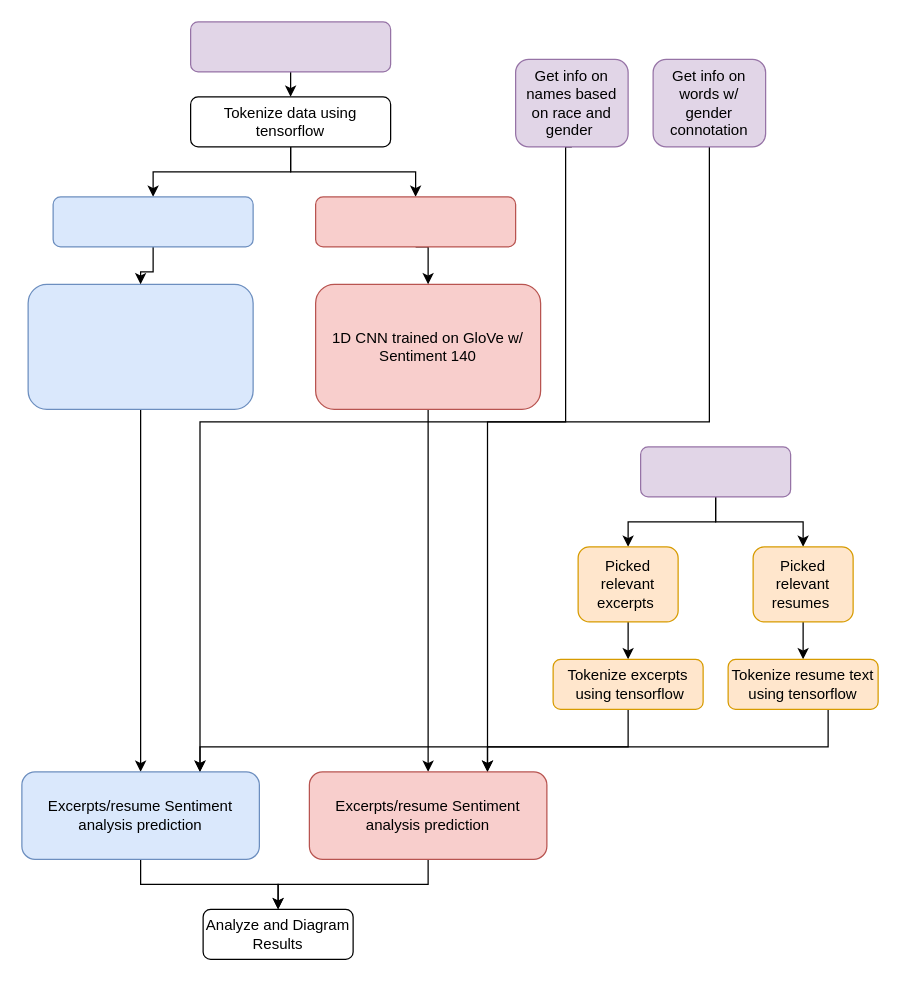
This 900x981 diagram has some shape labels left out. The shapes that lost their labels are listed below. From the top down, each one's box as (x1, y1, x2, y2) in pixels, then its label:
(189, 21, 391, 72): Sentiment 140: tweets sentiment analysis dataset
(52, 196, 253, 247): Get ConceptNet Embeddings Matrix from Data
(314, 196, 516, 247): Get GloVe Embeddings Matrix from Data
(27, 283, 253, 409): 1D CNN trained on conceptNet w/ Sentiment 140
(639, 446, 791, 497): Kaggle Resume Dataset
